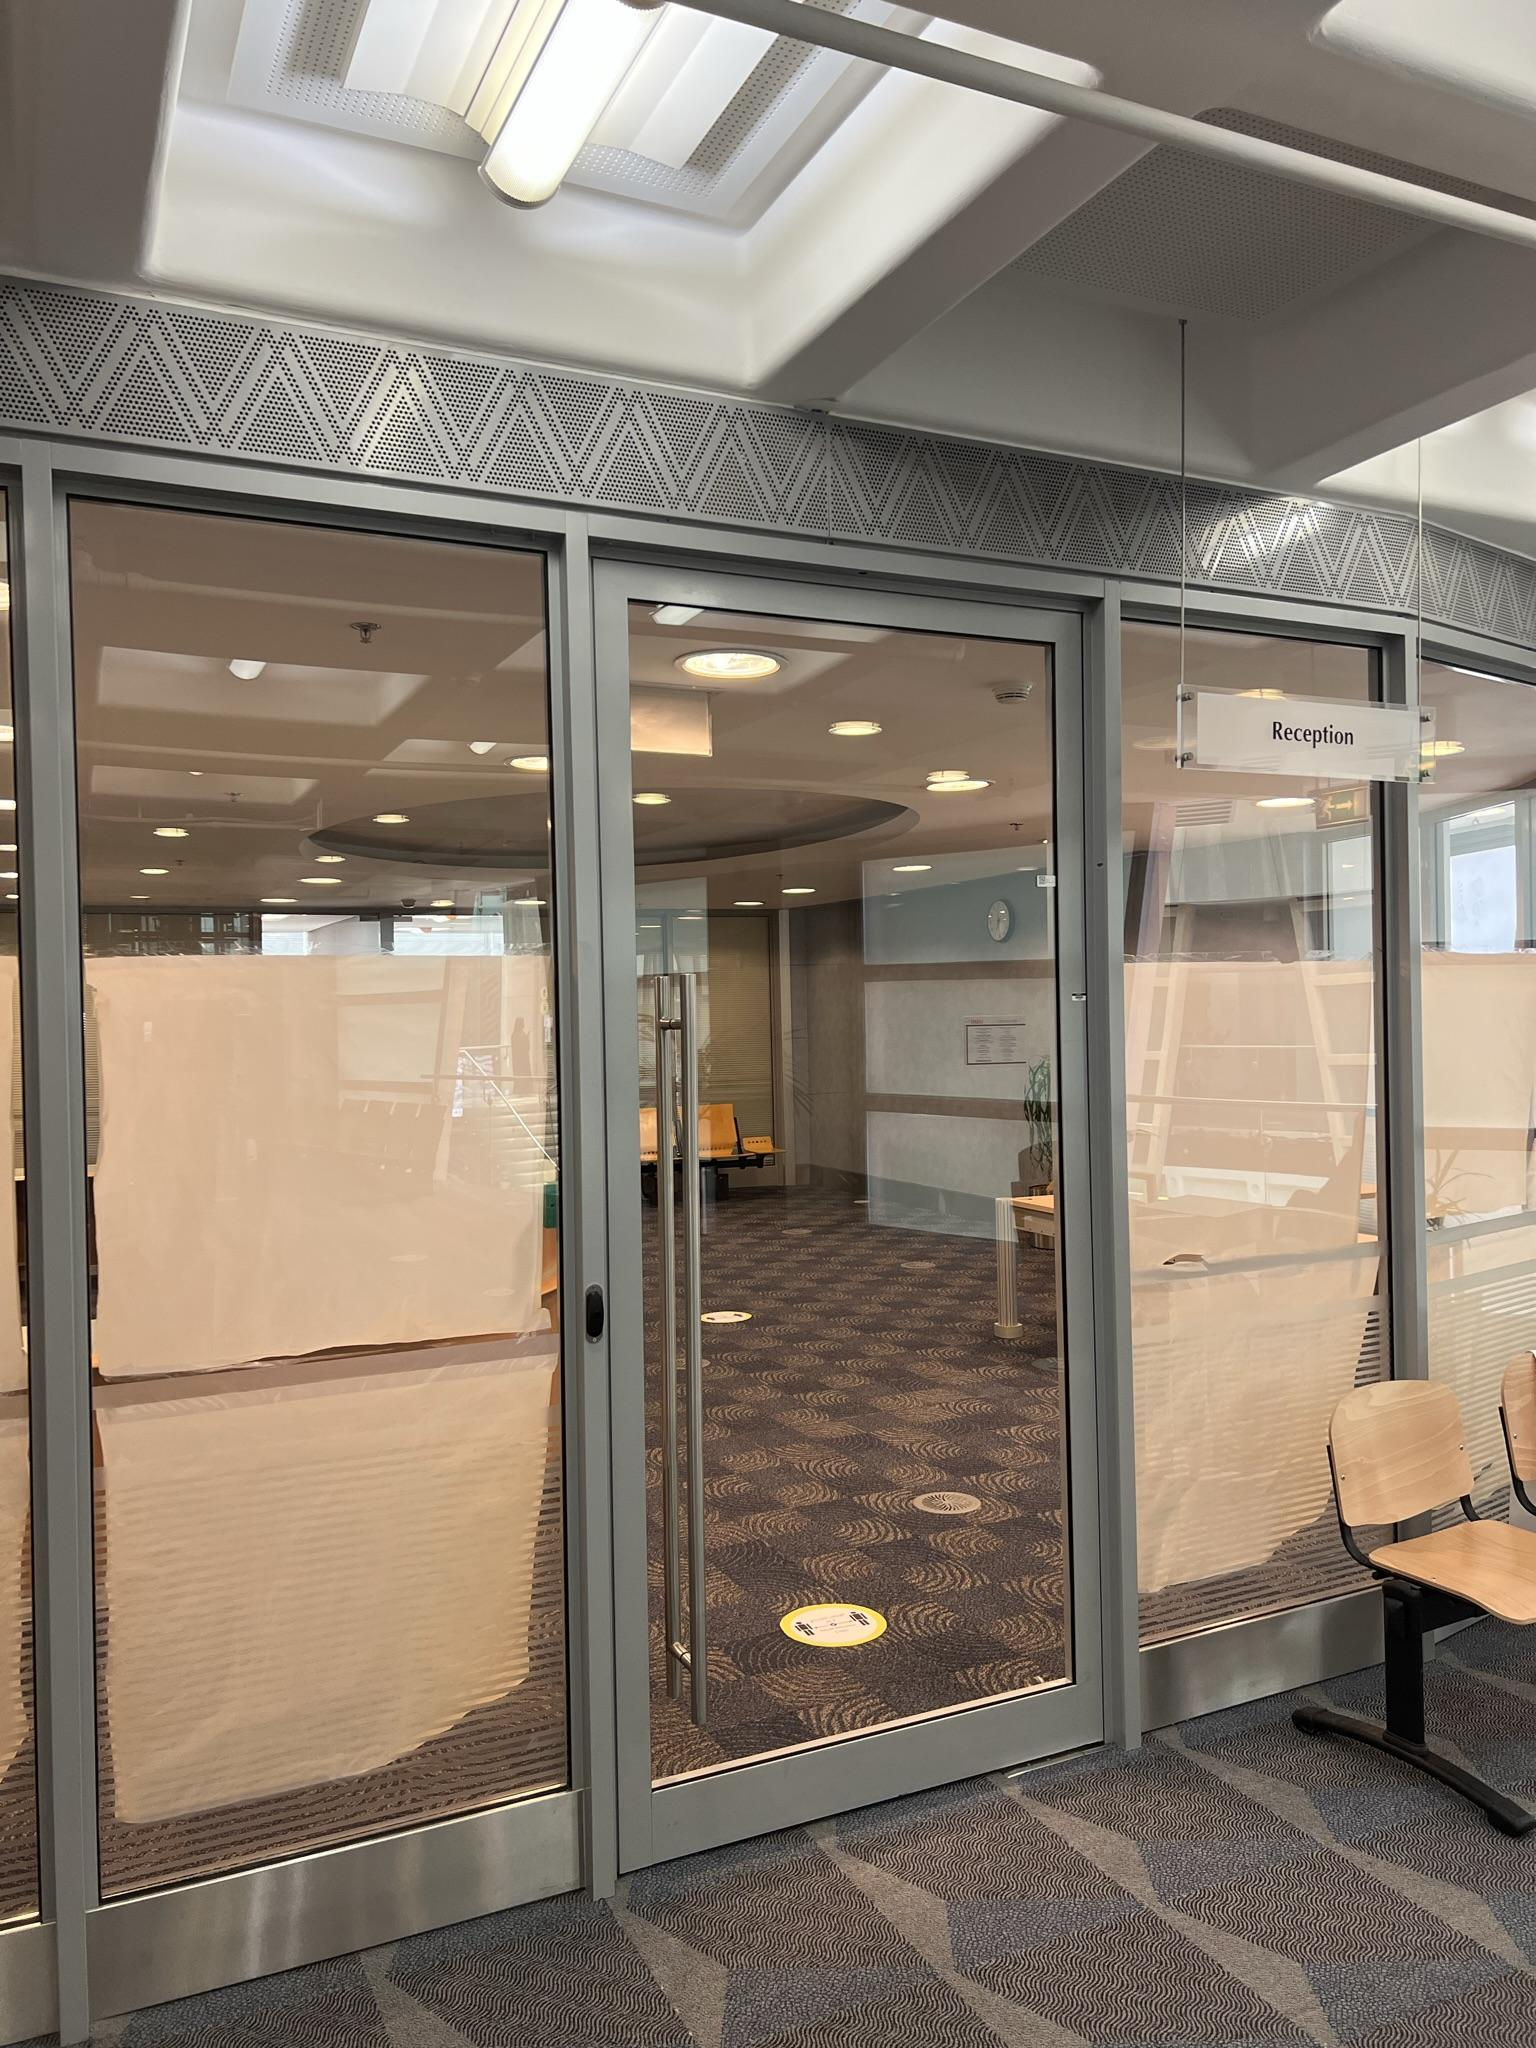door: (582, 521, 1117, 1822)
handle: (666, 966, 724, 1742)
